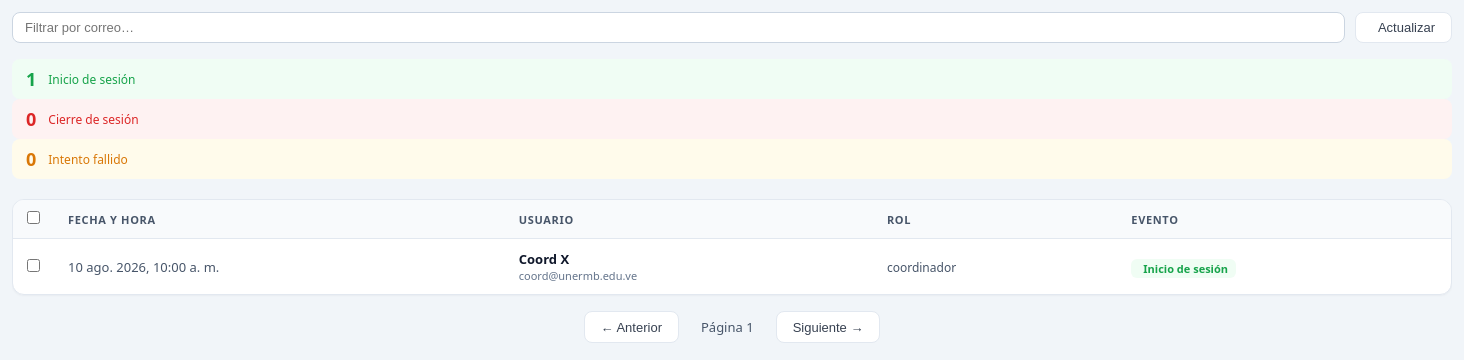
Test: TabSesiones — selección y borrado (admin_borrar_session_logs) › la selección se limpia al cambiar de página o de filtro (no sobrevive)
Expected: the text "coord@unermb.edu.ve" is shown, top-left (519, 268), bottom-right (637, 283)
Click the checkbox named "Seleccionar este registro". click: (34, 265)
box: top-left (27, 258), bottom-right (40, 272)
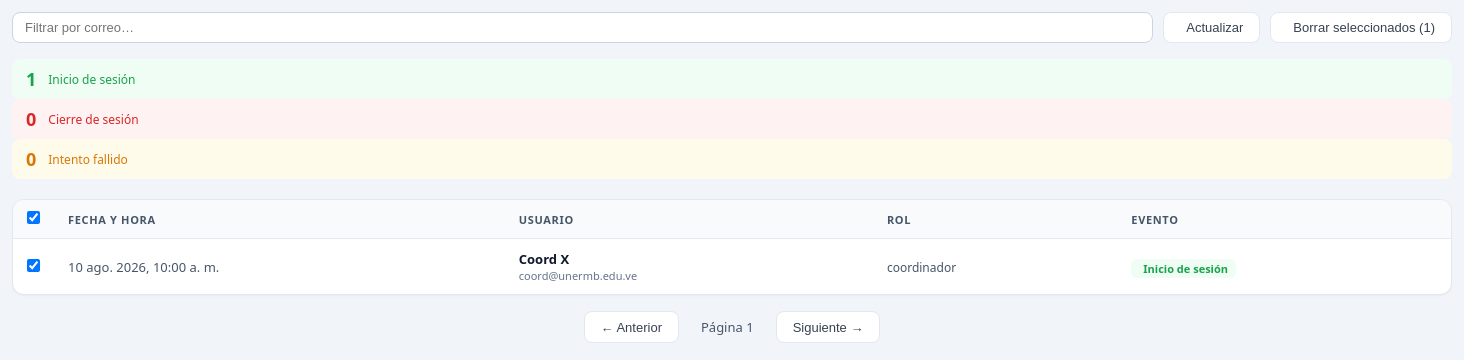
Result: the button "Borrar seleccionados (1)" is shown at top-left (1270, 12), bottom-right (1452, 43)
Type "otro" into the field with placeholder "Filtrar por correo…". click: (583, 28)
box: top-left (12, 12), bottom-right (1153, 43)
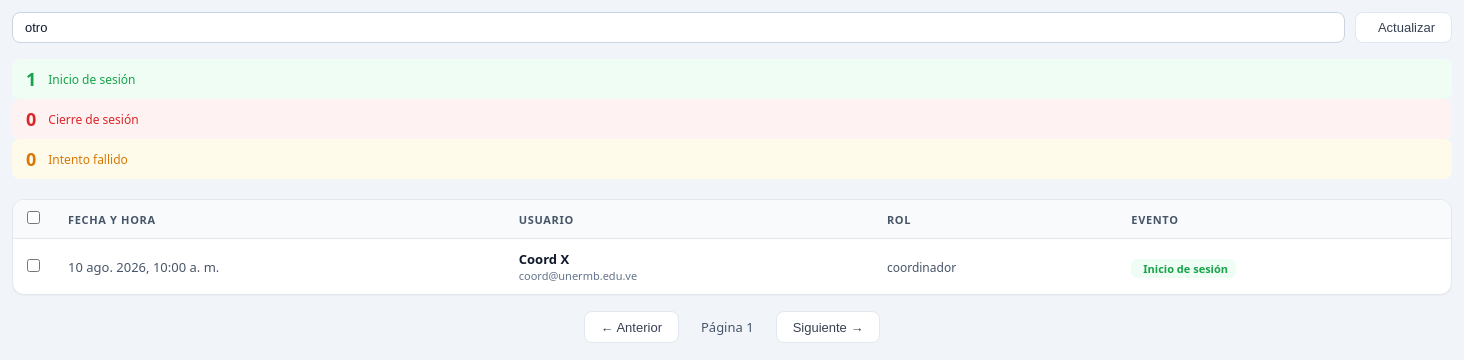
Result: the button "Borrar seleccionados" is gone
